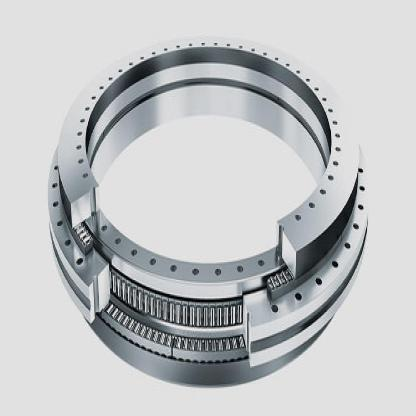FOD: (45, 35, 373, 396)
